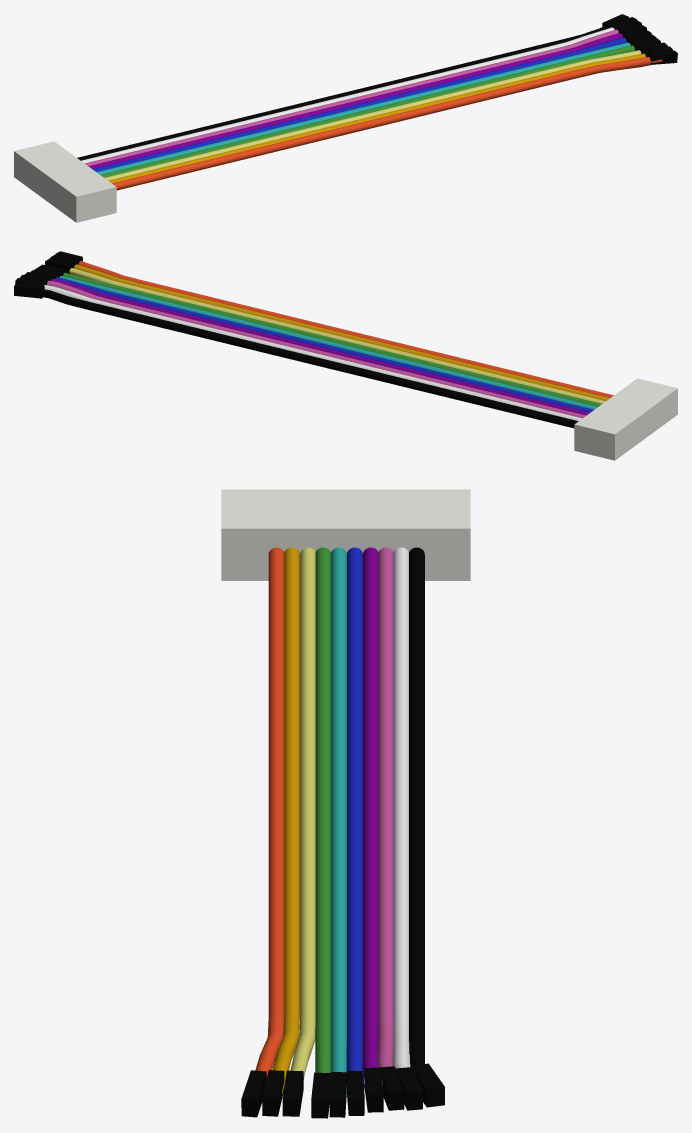
The model's file is Elaine's rainbow cable.fbx.
3 views of the same model, one above another, from view 1: azimuth 30°, elevation 25°; view 2: azimuth 150°, elevation 25°; view 3: azimuth 270°, elevation 25° (orthographic). The views are drawn at different scales.
Parts seen in each view (by area): view 1: group2_pasted__group_pasted__pasted__pCylinder1; view 2: group2_pasted__group_pasted__pasted__pCylinder1; view 3: group2_pasted__group_pasted__pasted__pCylinder1.
Boxes of the visible parts, <box> form: group2_pasted__group_pasted__pasted__pCylinder1: <box>14,14,677,222</box>; group2_pasted__group_pasted__pasted__pCylinder1: <box>14,251,677,460</box>; group2_pasted__group_pasted__pasted__pCylinder1: <box>221,489,470,1118</box>.
Size of the model in its own units: 24.35 by 1 by 4.33.
